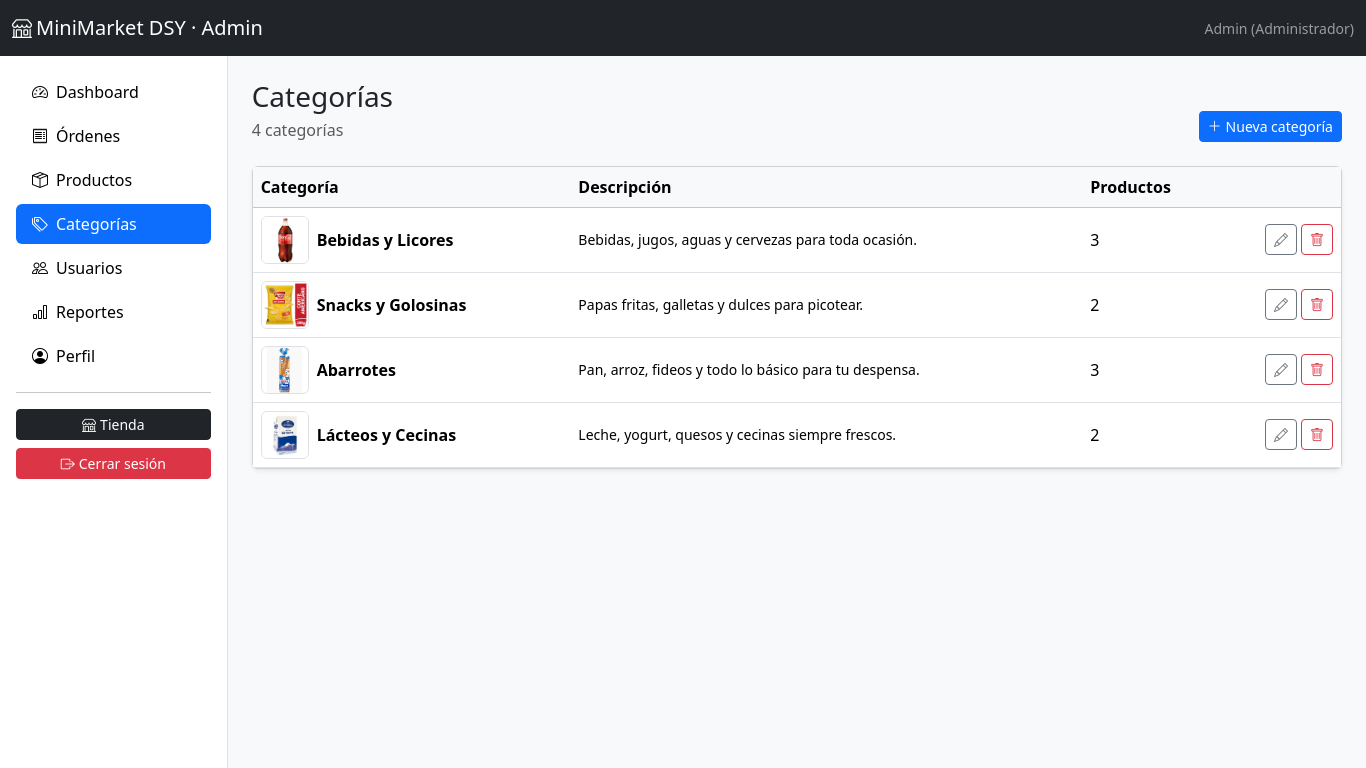
Scenario: Panel administrador › no elimina una categoría que tiene productos
The image size is (1366, 768).
Click the button named "Eliminar Abarrotes" at x=1317, y=370, box [1301,354,1333,385]
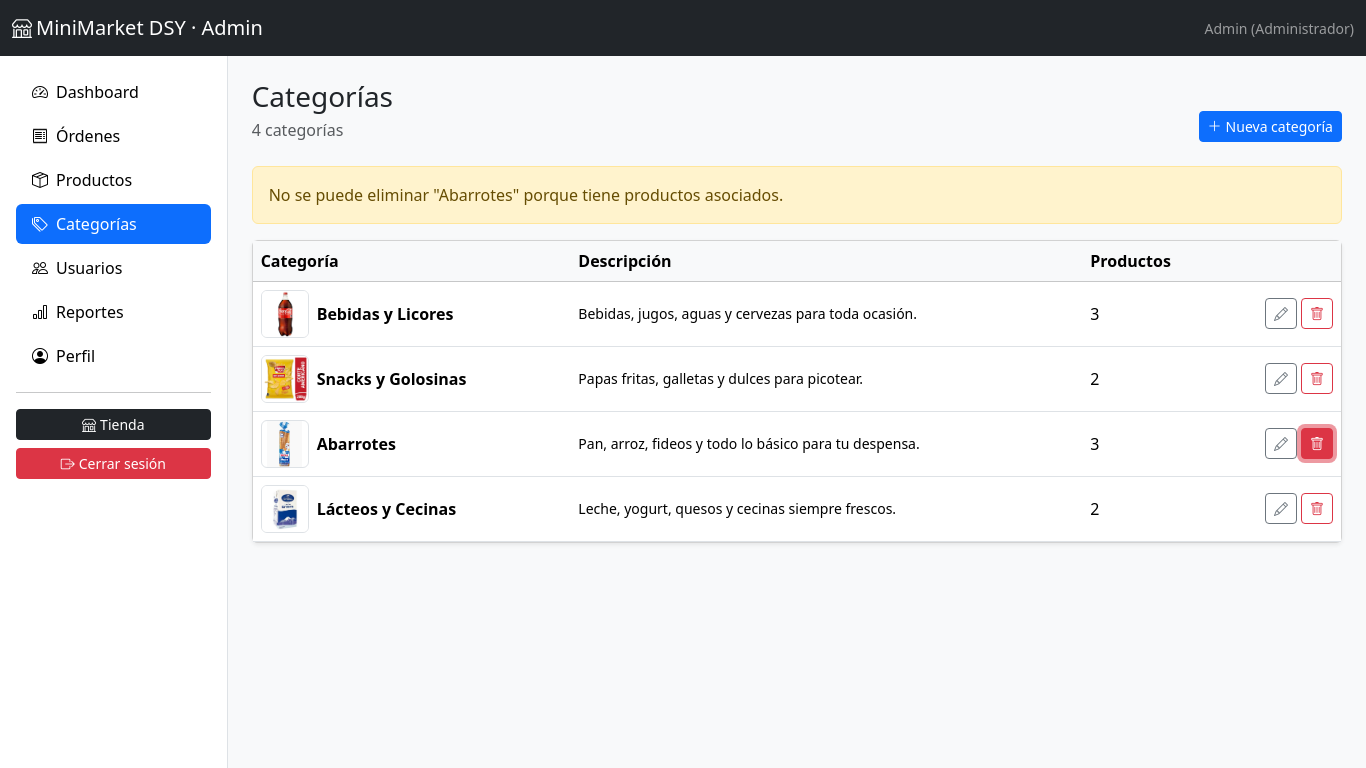
Expected: the message shows "tiene productos asociados", [269,184,783,206]
